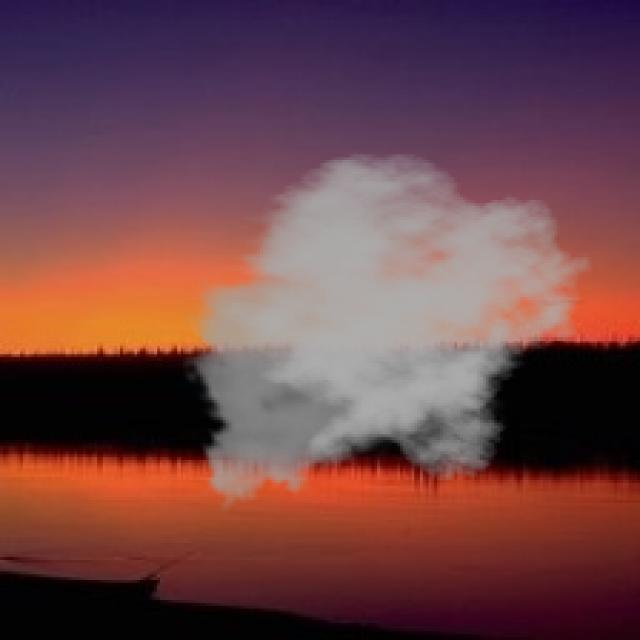Smoke: (180, 152, 594, 517)
